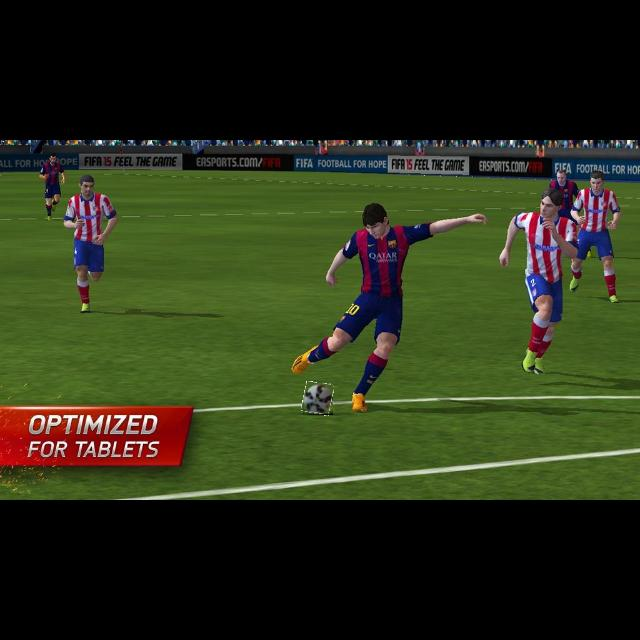Football: (303, 383, 333, 415)
